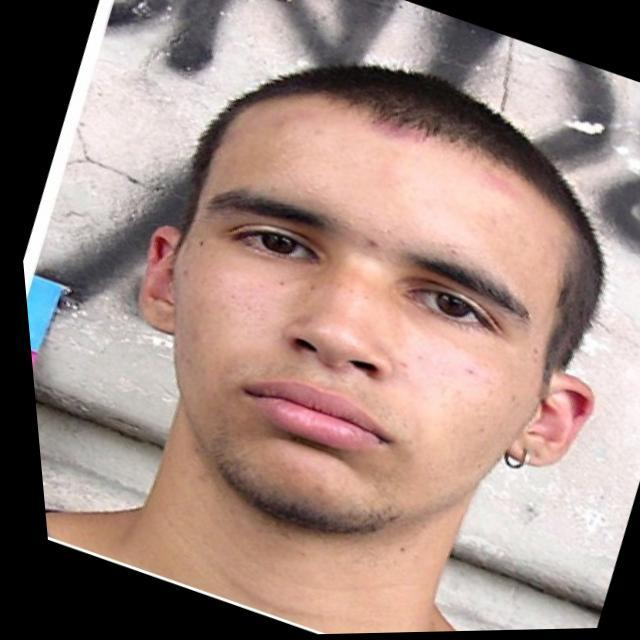Nonhelmet: (135, 43, 597, 549)
